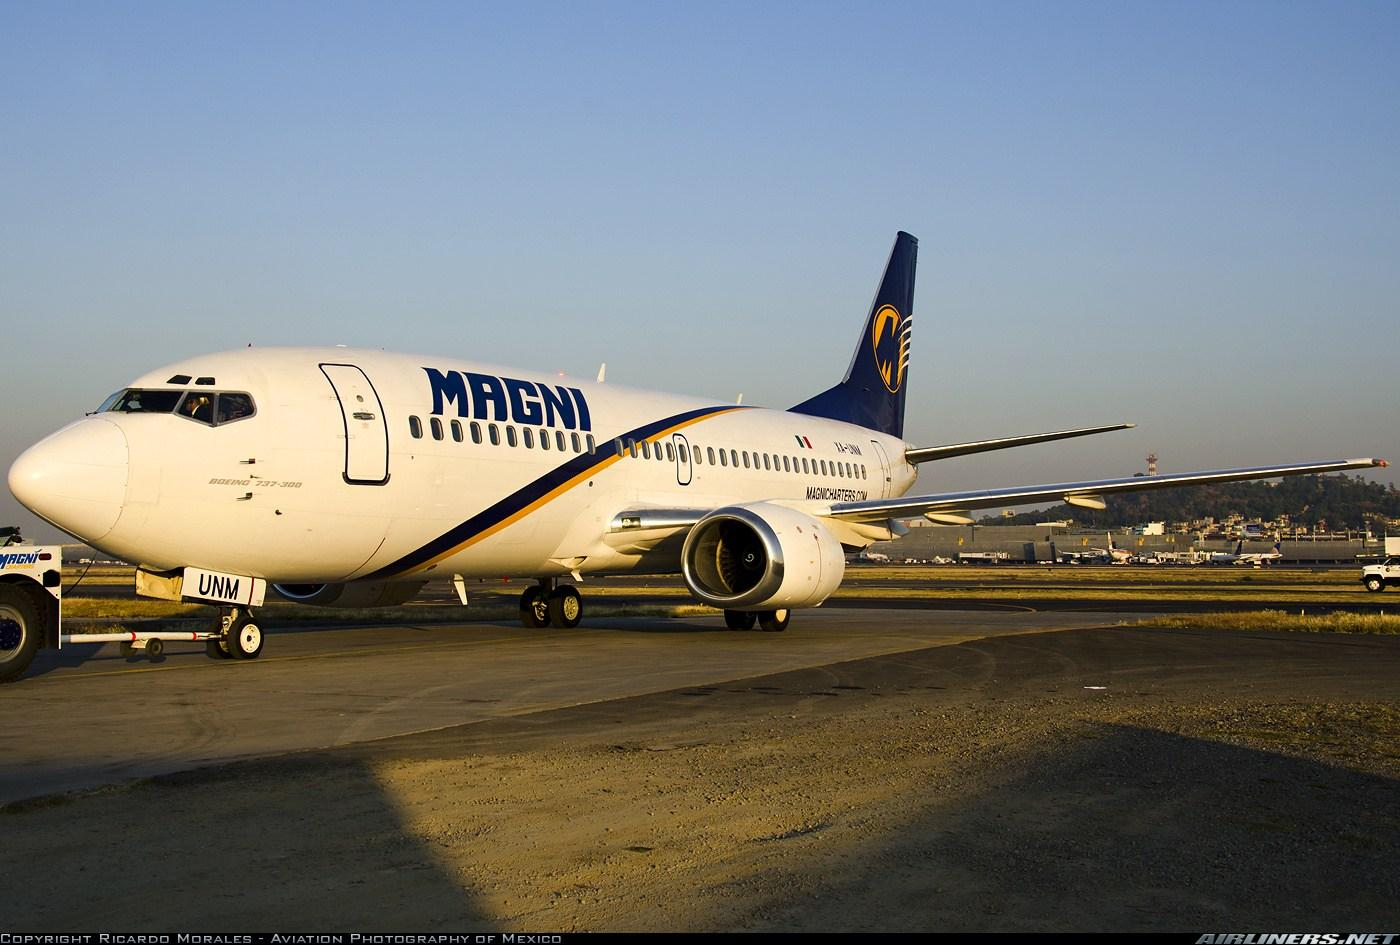airplane: (2, 226, 1391, 666)
